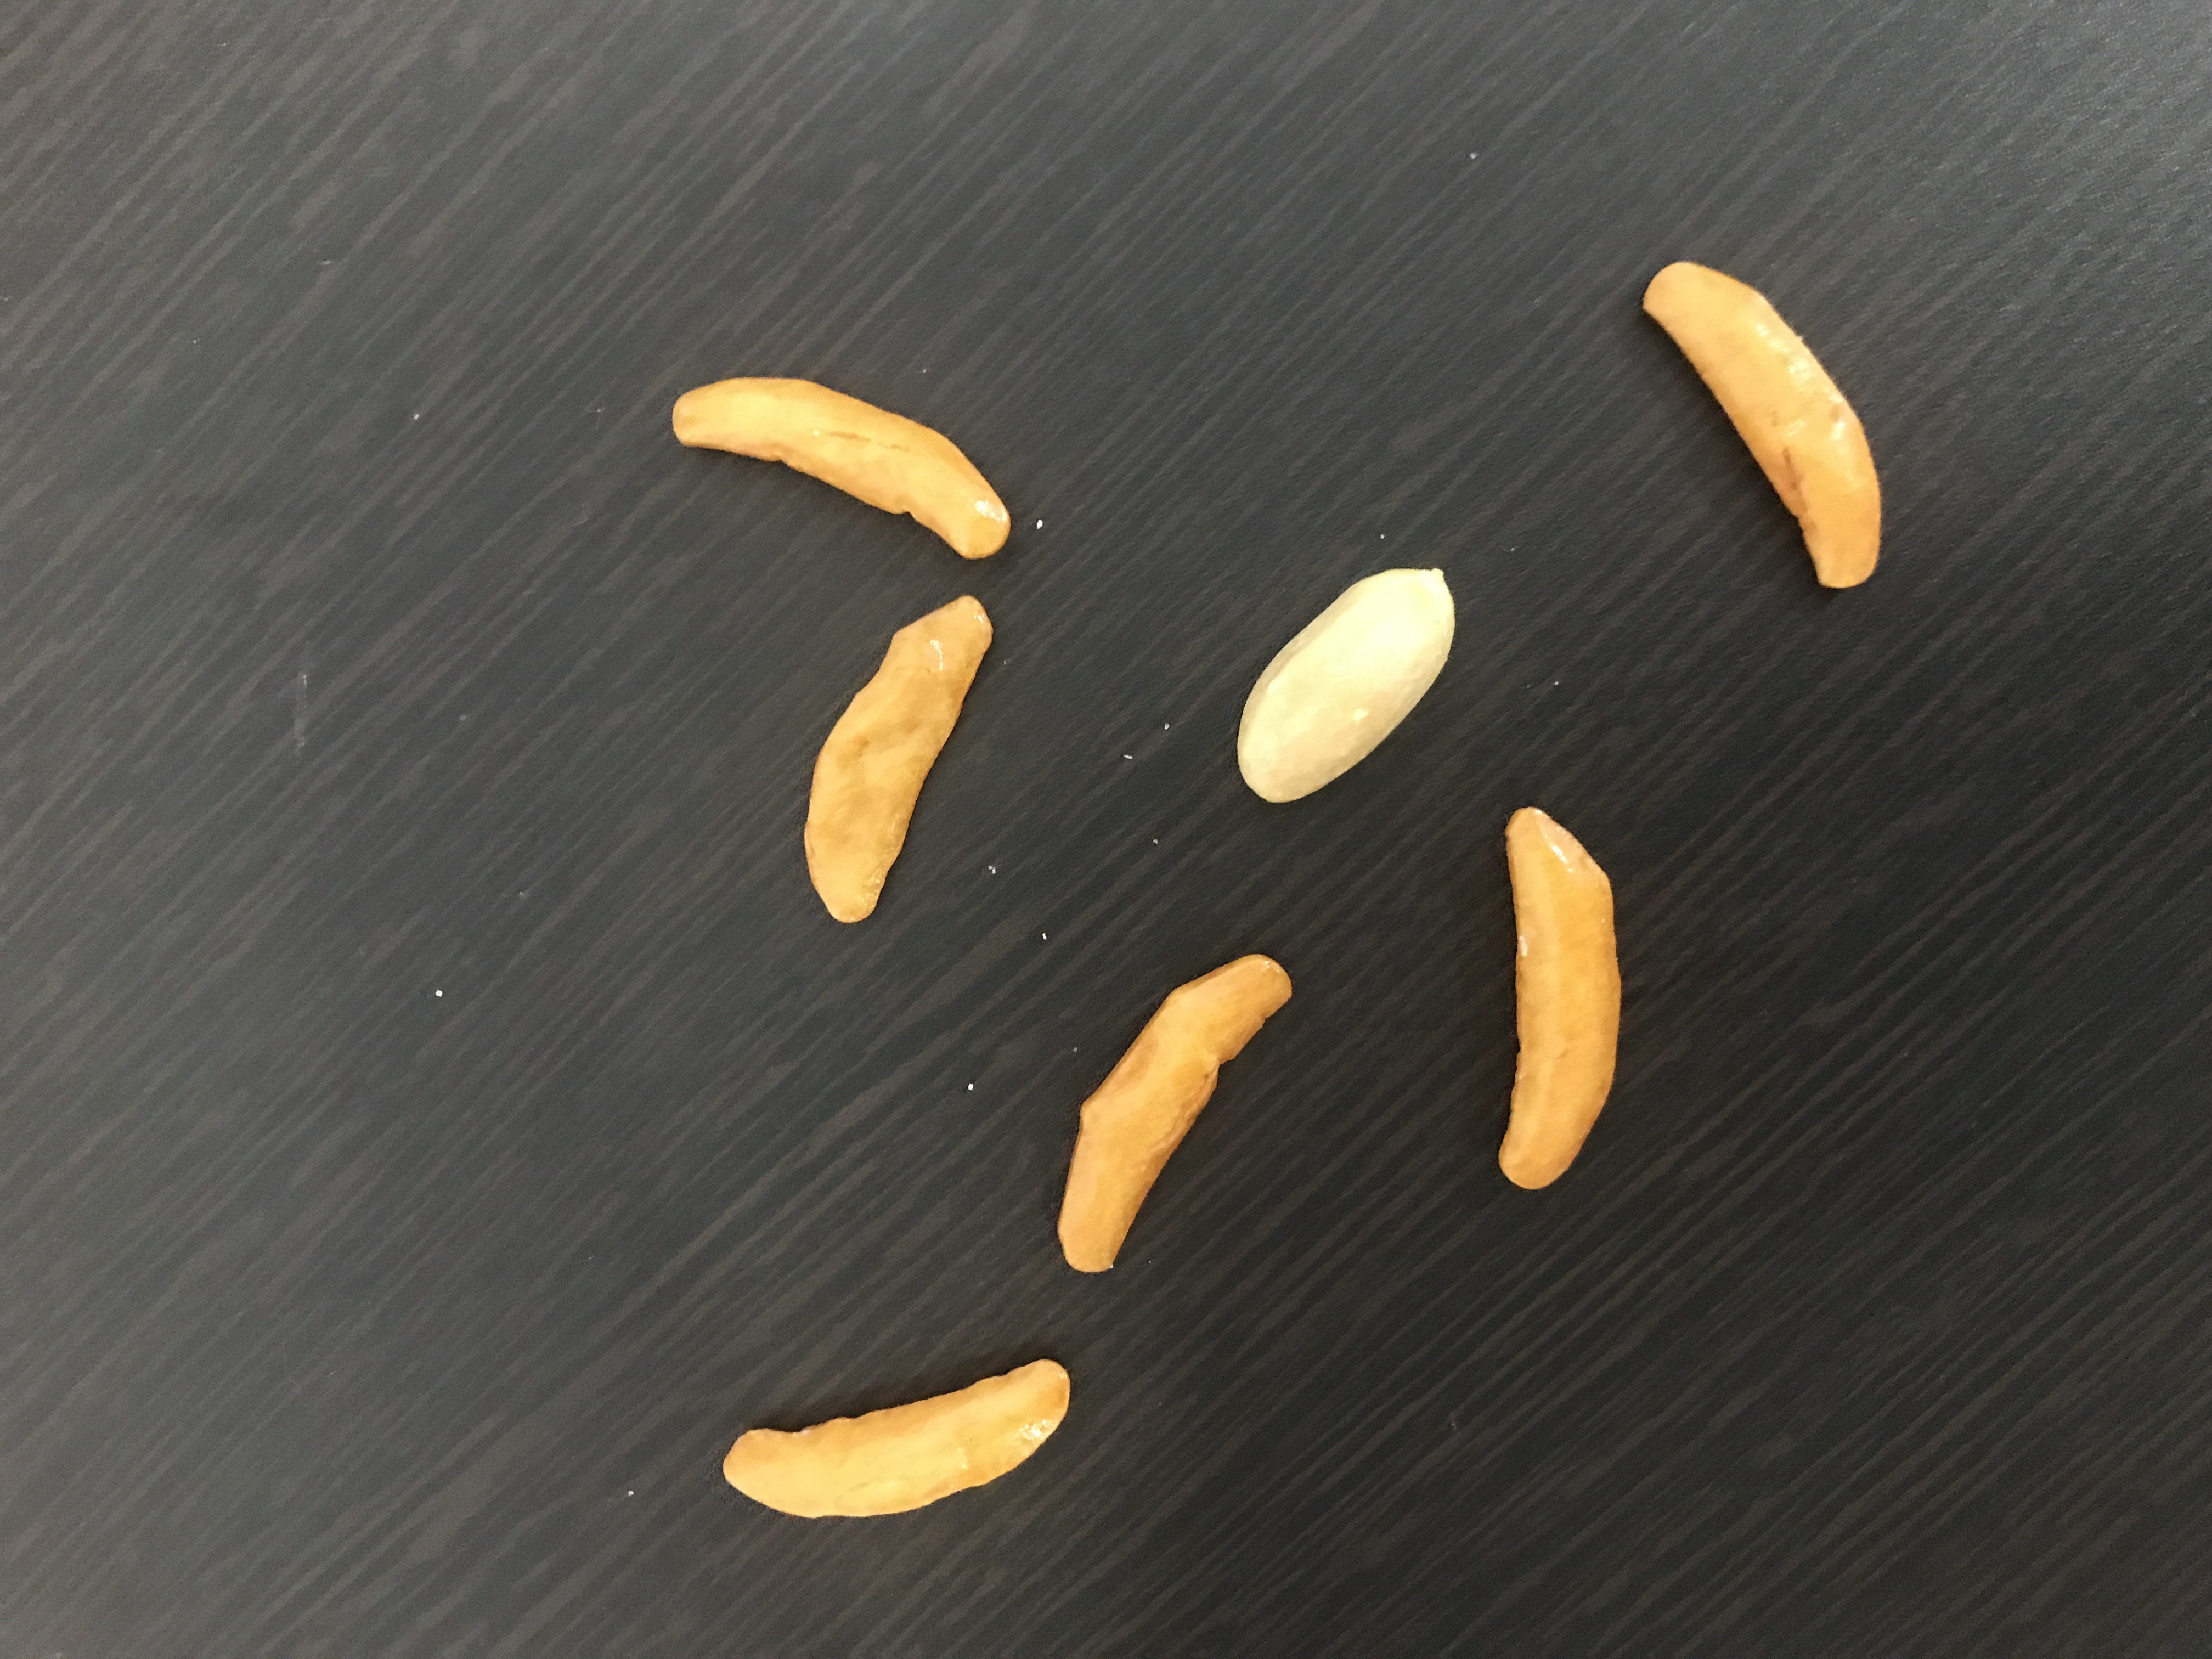peanut: (1231, 558, 1467, 812)
